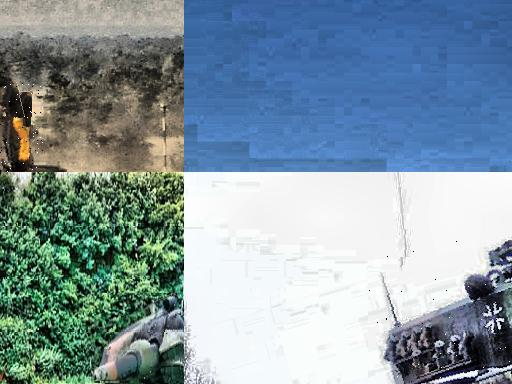tanks: (388, 240, 512, 384), (95, 294, 184, 383), (1, 84, 36, 173)
